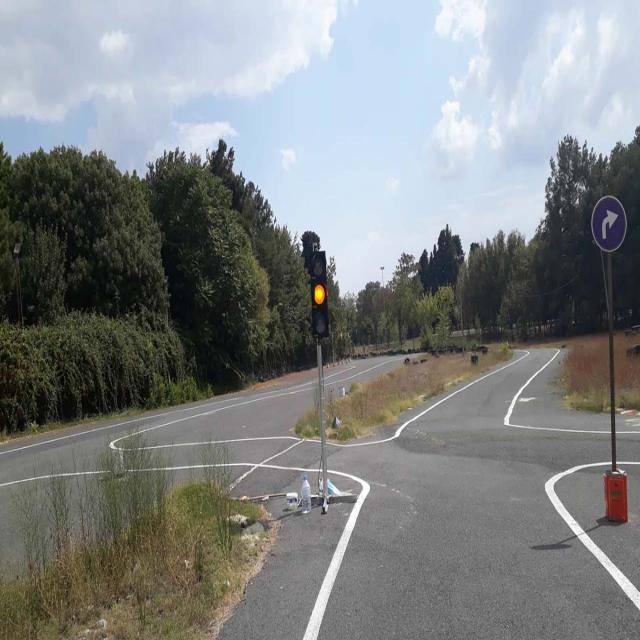sag: (592, 196, 626, 252)
sari: (310, 251, 330, 337)
